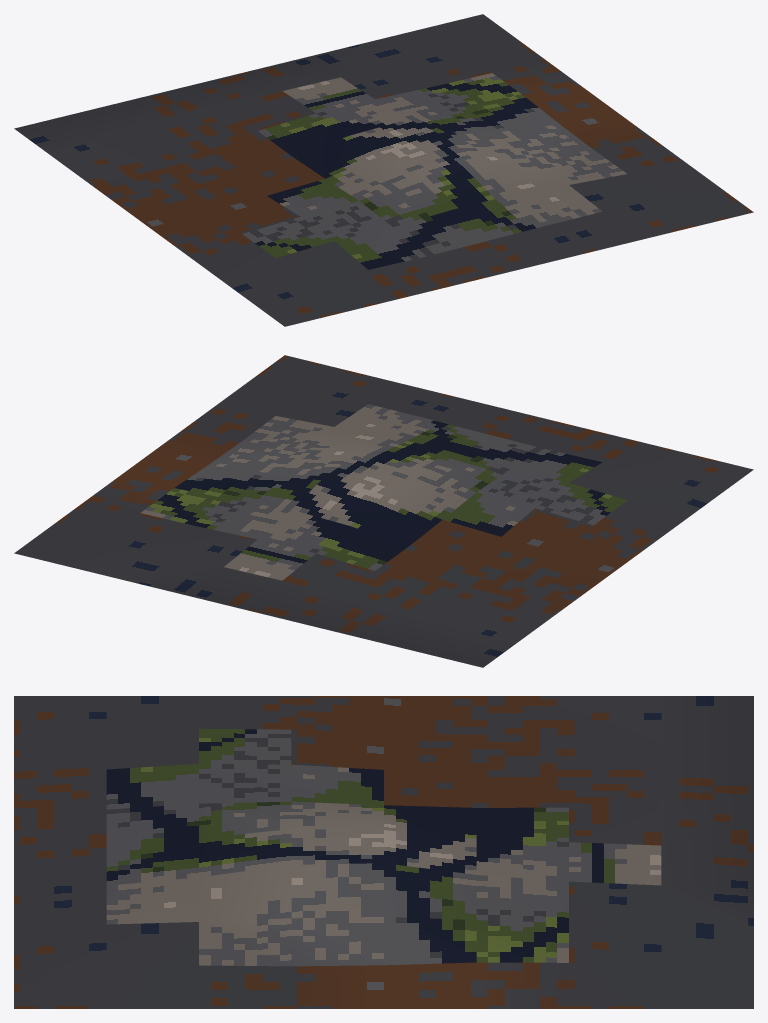
The model's file is cave.floor.glb.
The picture shows the model from 3 angles, top to bottom: view 1: azimuth 30°, elevation 25°; view 2: azimuth 150°, elevation 25°; view 3: azimuth 270°, elevation 25°; orthographic projection. The views are drawn at different scales.
Parts seen in each view (by area): view 1: kit_shell_floor; view 2: kit_shell_floor; view 3: kit_shell_floor.
Part boxes in pixels (left/top/right/bottom): kit_shell_floor: left=14, top=14, right=753, bottom=326; kit_shell_floor: left=14, top=355, right=753, bottom=667; kit_shell_floor: left=14, top=696, right=753, bottom=1008.
Size of the model in its own units: 4 by 0.1694 by 4.
2 materials, 2 textured.
